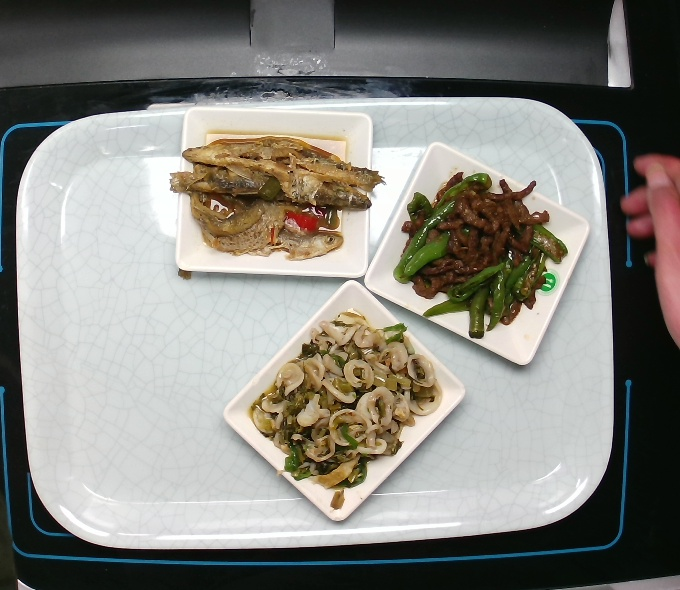wcq-QingJiaoNiuRou: (391, 165, 571, 342)
wcq-XiaoXiYu: (164, 131, 388, 264)
wcq-XueCaiYouYu: (245, 304, 448, 516)
